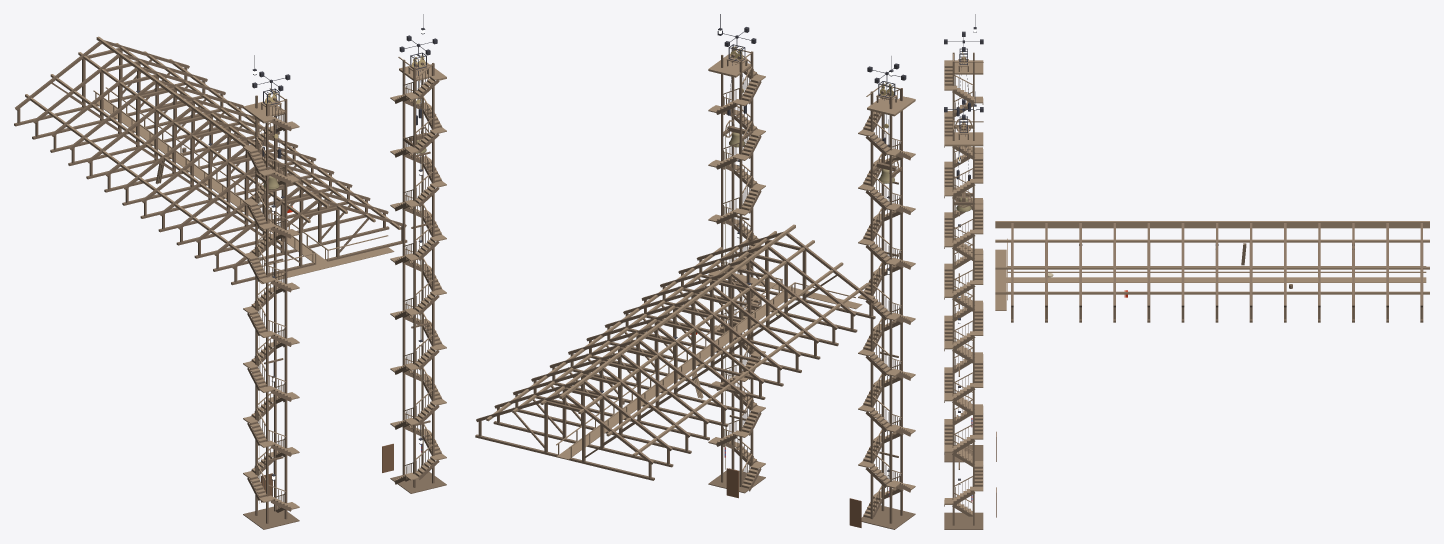
The model's file is cathedral_towers.gltf.
The picture shows the model from 3 angles, left to right: view 1: azimuth 30°, elevation 25°; view 2: azimuth 150°, elevation 25°; view 3: azimuth 270°, elevation 25°; orthographic projection. The views are drawn at different scales.
Visible parts, largest first — view 1: TowersTowerTimberDark, TowersTowerTimber, TowersWroughtIron; view 2: TowersTowerTimberDark, TowersTowerTimber, TowersWroughtIron, TowersDoorWood; view 3: TowersTowerTimber, TowersTowerTimberDark, TowersWroughtIron.
Boxes of the visible parts, x1,y1,x2,y2 form: TowersTowerTimberDark: (14,40,446,529); TowersTowerTimber: (25,36,446,509); TowersWroughtIron: (136,14,437,480); TowersTowerTimberDark: (475,47,915,529); TowersTowerTimber: (486,48,915,516); TowersWroughtIron: (600,14,906,475); TowersDoorWood: (726,468,861,527); TowersTowerTimber: (944,54,1429,514); TowersTowerTimberDark: (944,52,1423,529); TowersWroughtIron: (944,14,1354,484).
Size of what is drawn, in the model's own units: 15.83 by 38.17 by 38.47.
Materials: 11 (1 with a texture image).
